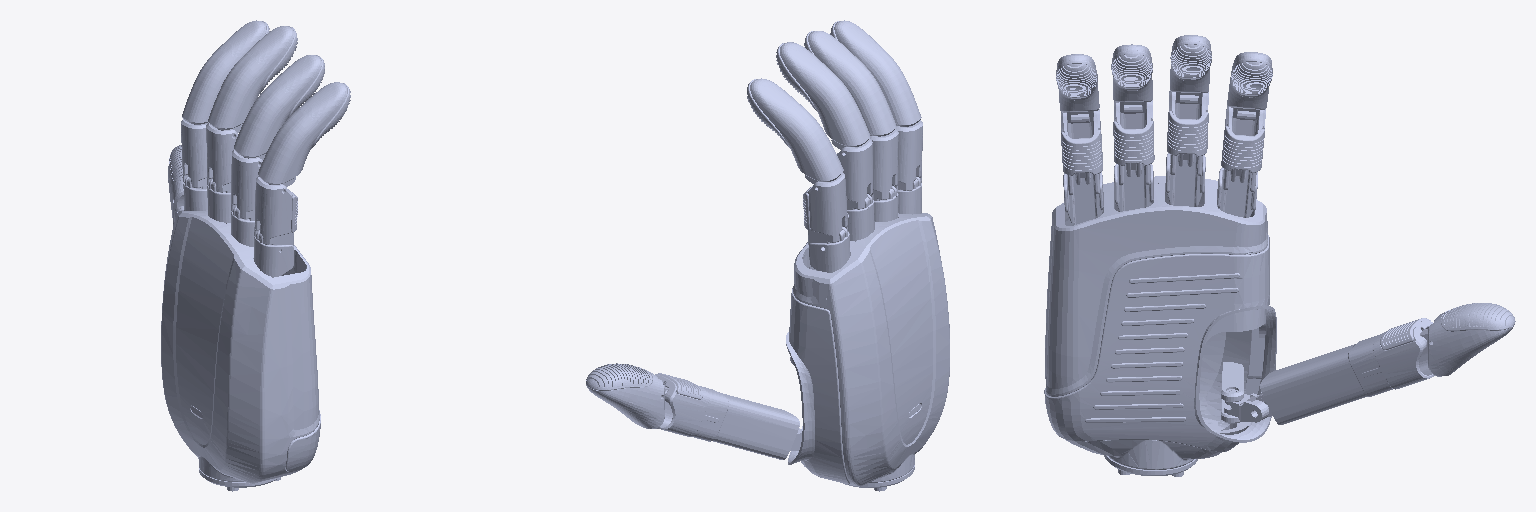
The robot description file, URDF, robot "linkerhand_L6V3.1_right_2.2":
<?xml version="1.0" encoding="utf-8"?>
<robot
  name="linkerhand_L6V3.1_right_2.2">
  <!-- 手掌基座，作为整只手的根链接 -->
  <link
    name="rh_hand_base_link">
    <inertial>
      <origin
        xyz="0.0019900000 0.0009100000 0.0583810000"
        rpy="0 0 0" />
      <mass
        value="0.4185" />
      <inertia
        ixx="0.0004998"
        ixy="-1.2853e-05"
        ixz="-8.317e-06"
        iyy="0.0003567"
        iyz="-1.0354e-05"
        izz="0.0002301" />
    </inertial>
    <visual>
      <origin
        xyz="0 0 0"
        rpy="0 0 0" />
      <geometry>
        <mesh
          filename="meshes/hand_base_link.STL" />
      </geometry>
      <material
        name="">
        <color
          rgba="0.796078431372549 0.823529411764706 0.937254901960784 1" />
      </material>
    </visual>
    <collision>
      <origin
        xyz="0 0 0"
        rpy="0 0 0" />
      <geometry>
        <mesh
          filename="meshes/hand_base_link.STL" />
      </geometry>
    </collision>
  </link>
  <link
    name="rh_thumb_metacarpals_base1">
    <inertial>
      <origin
        xyz="0.0018663000 0.0066406000 0.0015330000"
        rpy="0 0 0" />
      <mass
        value="0.01" />
      <inertia
        ixx="3.3724e-07"
        ixy="-1.11e-07"
        ixz="-3.6039e-08"
        iyy="2.9457e-07"
        iyz="-5.7181e-08"
        izz="4.903e-07" />
    </inertial>
    <visual>
      <origin
        xyz="0 0 0"
        rpy="0 0 0" />
      <geometry>
        <mesh
          filename="meshes/thumb_metacarpals_base1.STL" />
      </geometry>
      <material
        name="">
        <color
          rgba="0.796078431372549 0.823529411764706 0.937254901960784 1" />
      </material>
    </visual>
    <collision>
      <origin
        xyz="0 0 0"
        rpy="0 0 0" />
      <geometry>
        <mesh
          filename="meshes/thumb_metacarpals_base1.STL" />
      </geometry>
    </collision>
  </link>
  <joint
    name="rh_thumb_cmc_roll"
    type="revolute">
    <origin
      xyz="0.0078133 0.030812 0.025678"
      rpy="-0.034907 0 0" />
    <parent
      link="rh_hand_base_link" />
    <child
      link="rh_thumb_metacarpals_base1" />
    <axis
      xyz="0 0.034899 -0.99939" />
    <limit
      lower="-0.087266"
      upper="1.256637"
      effort="0.588"
      velocity="5.95" />
    <dynamics damping="0.02" friction="0.05416667"/>
  </joint>
  <link
    name="rh_thumb_metacarpals">
    <inertial>
      <origin
        xyz="0.0076927091 -0.0859662185 0.0235283087"
        rpy="0 0 0" />
      <mass
        value="0.065" />
      <inertia
        ixx="8.407e-06"
        ixy="1.1338e-09"
        ixz="1.1136e-08"
        iyy="8.3899e-06"
        iyz="-3.1171e-07"
        izz="2.0091e-06" />
    </inertial>
    <visual>
      <origin
        xyz="0 0 0"
        rpy="0 0 0" />
      <geometry>
        <mesh
          filename="meshes/thumb_metacarpals.STL" />
      </geometry>
      <material
        name="">
        <color
          rgba="0.796078431372549 0.823529411764706 0.937254901960784 1" />
      </material>
    </visual>
    <collision>
      <origin
        xyz="0 0 0"
        rpy="0 0 0" />
      <geometry>
        <mesh
          filename="meshes/thumb_metacarpals.STL" />
      </geometry>
    </collision>
  </link>
  <joint
    name="rh_thumb_cmc_pitch"
    type="revolute">
    <origin
      xyz="0.0054997 0.013314 0.0032166"
      rpy="-1.0762 0.013637 -0.40121" />
    <parent
      link="rh_thumb_metacarpals_base1" />
    <child
      link="rh_thumb_metacarpals" />
    <axis
      xyz="1 0 0" />
    <limit
      lower="0"
      upper="0.837758"
      effort="1.008"
      velocity="3.47" />
    <dynamics damping="0.02" friction="0.0375"/>
  </joint>
  <link
    name="rh_thumb_distal">
    <inertial>
      <origin
        xyz="0.0076927091 -0.0798662185 -0.0591716913"
        rpy="0 0 0" />
      <mass
        value="0.018" />
      <inertia
        ixx="1.5546e-06"
        ixy="-2.4423e-09"
        ixz="2.8147e-09"
        iyy="1.7108e-06"
        iyz="7.2756e-08"
        izz="9.1709e-07" />
    </inertial>
    <visual>
      <origin
        xyz="0 0 0"
        rpy="0 0 0" />
      <geometry>
        <mesh
          filename="meshes/thumb_distal.STL" />
      </geometry>
      <material
        name="">
        <color
          rgba="0.796078431372549 0.823529411764706 0.937254901960784 1" />
      </material>
    </visual>
    <collision>
      <origin
        xyz="0 0 0"
        rpy="0 0 0" />
      <geometry>
        <mesh
          filename="meshes/thumb_distal.STL" />
      </geometry>
    </collision>
  </link>
  <link
    name="rh_thumb_tip">
    <inertial>
      <origin
        xyz="0 0 0"
        rpy="0 0 0" />
      <mass
        value="1e-06" />
      <inertia
        ixx="1e-09"
        ixy="0"
        ixz="0"
        iyy="1e-09"
        iyz="0"
        izz="1e-09" />
    </inertial>
  </link>
  <joint
    name="rh_thumb_tip_fixed"
    type="fixed">
    <origin
      xyz="0 -0.0035 0.026"
      rpy="0 0 -1.5708" />
    <parent
      link="rh_thumb_distal" />
    <child
      link="rh_thumb_tip" />
  </joint>
  <joint
    name="rh_thumb_dip"
    type="revolute">
    <origin
      xyz="0 -0.0061 0.0827"
      rpy="0 0 0" />
    <parent
      link="rh_thumb_metacarpals" />
    <child
      link="rh_thumb_distal" />
    <axis
      xyz="1 0 0" />
    <limit
      lower="0"
      upper="0.963287"
      effort="0"
      velocity="1.7" />
    <mimic
      joint="rh_thumb_cmc_pitch"
      multiplier="1.226495"
      offset="0" />
  </joint>
  <link
    name="rh_index_proximal">
    <inertial>
      <origin
        xyz="0.0017760000 0.0001100000 0.0125560000"
        rpy="0 0 0" />
      <mass
        value="0.008553" />
      <inertia
        ixx="7.97543e-07"
        ixy="1.275e-09"
        ixz="1.38601e-07"
        iyy="8.00499e-07"
        iyz="-9.39e-10"
        izz="3.57001e-07" />
    </inertial>
    <visual>
      <origin
        xyz="0 0 0"
        rpy="0 0 0" />
      <geometry>
        <mesh
          filename="meshes/index_proximal.STL" />
      </geometry>
      <material
        name="">
        
        <color
          rgba="0.796078431372549 0.823529411764706 0.937254901960784 1" />
      </material>
    </visual>
    <collision>
      <origin
        xyz="0 0 0"
        rpy="0 0 0" />
      <geometry>
        <mesh
          filename="meshes/index_proximal.STL" />
      </geometry>
    </collision>
  </link>
  <joint
    name="rh_index_mcp_pitch"
    type="revolute">
    <origin
      xyz="-0.00066821 0.033467 0.11622"
      rpy="-0.087266 0 0" />
    <parent
      link="rh_hand_base_link" />
    <child
      link="rh_index_proximal" />
    <axis
      xyz="0 1 0" />
    <limit
      lower="0"
      upper="1.134464"
      effort="0.574"
      velocity="6.10" />
    <dynamics damping="0.01" friction="0.04"/>
  </joint>
  <link
    name="rh_index_distal">
    <inertial>
      <origin
        xyz="0.0134000000 -0.0022620000 0.0169920000"
        rpy="0 0 0" />
      <mass
        value="0.018408" />
      <inertia
        ixx="2.488712e-06"
        ixy="-8.249e-09"
        ixz="-1.523059e-06"
        iyy="3.723754e-06"
        iyz="-1.4019e-08"
        izz="1.813582e-06" />
    </inertial>
    <visual>
      <origin
        xyz="0 0 0"
        rpy="0 0 0" />
      <geometry>
        <mesh
          filename="meshes/index_distal.STL" />
      </geometry>
      <material
        name="">
        <color
          rgba="0.796078431372549 0.823529411764706 0.937254901960784 1" />
      </material>
    </visual>
    <collision>
      <origin
        xyz="0 0 0"
        rpy="0 0 0" />
      <geometry>
        <mesh
          filename="meshes/index_distal.STL" />
      </geometry>
    </collision>
  </link>
  <link
    name="rh_index_tip">
    <inertial>
      <origin
        xyz="0 0 0"
        rpy="0 0 0" />
      <mass
        value="1e-06" />
      <inertia
        ixx="1e-09"
        ixy="0"
        ixz="0"
        iyy="1e-09"
        iyz="0"
        izz="1e-09" />
    </inertial>
  </link>
  <joint
    name="rh_index_tip_fixed"
    type="fixed">
    <origin
      xyz="0.0341 0 0.034"
      rpy="0 0 0" />
    <parent
      link="rh_index_distal" />
    <child
      link="rh_index_tip" />
  </joint>
  <joint
    name="rh_index_dip"
    type="revolute">
    <origin
      xyz="0.0009359 0 0.028002"
      rpy="0 0 0" />
    <parent
      link="rh_index_proximal" />
    <child
      link="rh_index_distal" />
    <axis
      xyz="0 1 0" />
    <limit
      lower="0"
      upper="1.277039"
      effort="0"
      velocity="3.1" />
    <mimic
      joint="rh_index_mcp_pitch"
      multiplier="1.125676"
      offset="0" />
  </joint>
  <link
    name="rh_middle_proximal">
    <inertial>
      <origin
        xyz="0.0017760000 0.0001100000 0.0125560000"
        rpy="0 0 0" />
      <mass
        value="0.008553" />
      <inertia
        ixx="7.97543e-07"
        ixy="1.275e-09"
        ixz="1.38601e-07"
        iyy="8.00499e-07"
        iyz="-9.39e-10"
        izz="3.57001e-07" />
    </inertial>
    <visual>
      <origin
        xyz="0 0 0"
        rpy="0 0 0" />
      <geometry>
        <mesh
          filename="meshes/middle_proximal.STL" />
      </geometry>
      <material
        name="">
        <color
          rgba="0.796078431372549 0.823529411764706 0.937254901960784 1" />
      </material>
    </visual>
    <collision>
      <origin
        xyz="0 0 0"
        rpy="0 0 0" />
      <geometry>
        <mesh
          filename="meshes/middle_proximal.STL" />
      </geometry>
    </collision>
  </link>
  <joint
    name="rh_middle_mcp_pitch"
    type="revolute">
    <origin
      xyz="-0.00066821 0.0134013 0.12272"
      rpy="-0.034907 0 0" />
    <parent
      link="rh_hand_base_link" />
    <child
      link="rh_middle_proximal" />
    <axis
      xyz="0 1 0" />
    <limit
      lower="0"
      upper="1.134464"
      effort="0.574"
      velocity="6.10" />
    <dynamics damping="0.01" friction="0.02708333"/>
  </joint>
  <link
    name="rh_middle_distal">
    <inertial>
      <origin
        xyz="0.0134000000 -0.0022620000 0.0169920000"
        rpy="0 0 0" />
      <mass
        value="0.018408" />
      <inertia
        ixx="2.488712e-06"
        ixy="-8.249e-09"
        ixz="-1.523059e-06"
        iyy="3.723754e-06"
        iyz="-1.4019e-08"
        izz="1.813582e-06" />
    </inertial>
    <visual>
      <origin
        xyz="0 0 0"
        rpy="0 0 0" />
      <geometry>
        <mesh
          filename="meshes/middle_distal.STL" />
      </geometry>
      <material
        name="">
        <color
          rgba="0.796078431372549 0.823529411764706 0.937254901960784 1" />
      </material>
    </visual>
    <collision>
      <origin
        xyz="0 0 0"
        rpy="0 0 0" />
      <geometry>
        <mesh
          filename="meshes/middle_distal.STL" />
      </geometry>
    </collision>
  </link>
  <link
    name="rh_middle_tip">
    <inertial>
      <origin
        xyz="0 0 0"
        rpy="0 0 0" />
      <mass
        value="1e-06" />
      <inertia
        ixx="1e-09"
        ixy="0"
        ixz="0"
        iyy="1e-09"
        iyz="0"
        izz="1e-09" />
    </inertial>
  </link>
  <joint
    name="rh_middle_tip_fixed"
    type="fixed">
    <origin
      xyz="0.0341 0 0.034"
      rpy="0 0 0" />
    <parent
      link="rh_middle_distal" />
    <child
      link="rh_middle_tip" />
  </joint>
  <joint
    name="rh_middle_dip"
    type="revolute">
    <origin
      xyz="0.0009359 0 0.028002"
      rpy="0 0 0" />
    <parent
      link="rh_middle_proximal" />
    <child
      link="rh_middle_distal" />
    <axis
      xyz="0 1 0" />
    <limit
      lower="0"
      upper="1.277039"
      effort="0"
      velocity="3.1" />
    <mimic
      joint="rh_middle_mcp_pitch"
      multiplier="1.125676"
      offset="0" />
  </joint>
  <link
    name="rh_ring_proximal">
    <inertial>
      <origin
        xyz="0.0017760000 0.0001100000 0.0125560000"
        rpy="0 0 0" />
      <mass
        value="0.008553" />
      <inertia
        ixx="7.97543e-07"
        ixy="1.275e-09"
        ixz="1.38601e-07"
        iyy="8.00499e-07"
        iyz="-9.39e-10"
        izz="3.57001e-07" />
    </inertial>
    <visual>
      <origin
        xyz="0 0 0"
        rpy="0 0 0" />
      <geometry>
        <mesh
          filename="meshes/ring_proximal.STL" />
      </geometry>
      <material
        name="">
        <color
          rgba="0.796078431372549 0.823529411764706 0.937254901960784 1" />
      </material>
    </visual>
    <collision>
      <origin
        xyz="0 0 0"
        rpy="0 0 0" />
      <geometry>
        <mesh
          filename="meshes/ring_proximal.STL" />
      </geometry>
    </collision>
  </link>
  <joint
    name="rh_ring_mcp_pitch"
    type="revolute">
    <origin
      xyz="-0.00067368 -0.006217 0.11872"
      rpy="0.017453 0 0" />
    <parent
      link="rh_hand_base_link" />
    <child
      link="rh_ring_proximal" />
    <axis
      xyz="0 1 0" />
    <limit
      lower="0"
      upper="1.134464"
      effort="0.574"
      velocity="6.10" />
    <dynamics damping="0.01" friction="0.02291667"/>
  </joint>
  <link
    name="rh_ring_distal">
    <inertial>
      <origin
        xyz="0.0134000000 -0.0022620000 0.0169920000"
        rpy="0 0 0" />
      <mass
        value="0.018408" />
      <inertia
        ixx="2.488712e-06"
        ixy="-8.249e-09"
        ixz="-1.523059e-06"
        iyy="3.723754e-06"
        iyz="-1.4019e-08"
        izz="1.813582e-06" />
    </inertial>
    <visual>
      <origin
        xyz="0 0 0"
        rpy="0 0 0" />
      <geometry>
        <mesh
          filename="meshes/ring_distal.STL" />
      </geometry>
      <material
        name="">
        <color
          rgba="0.796078431372549 0.823529411764706 0.937254901960784 1" />
      </material>
    </visual>
    <collision>
      <origin
        xyz="0 0 0"
        rpy="0 0 0" />
      <geometry>
        <mesh
          filename="meshes/ring_distal.STL" />
      </geometry>
    </collision>
  </link>
  <link
    name="rh_ring_tip">
    <inertial>
      <origin
        xyz="0 0 0"
        rpy="0 0 0" />
      <mass
        value="1e-06" />
      <inertia
        ixx="1e-09"
        ixy="0"
        ixz="0"
        iyy="1e-09"
        iyz="0"
        izz="1e-09" />
    </inertial>
  </link>
  <joint
    name="rh_ring_tip_fixed"
    type="fixed">
    <origin
      xyz="0.0341 0 0.034"
      rpy="0 0 0" />
    <parent
      link="rh_ring_distal" />
    <child
      link="rh_ring_tip" />
  </joint>
  <joint
    name="rh_ring_dip"
    type="revolute">
    <origin
      xyz="0.0009359 0 0.028002"
      rpy="0 0 0" />
    <parent
      link="rh_ring_proximal" />
    <child
      link="rh_ring_distal" />
    <axis
      xyz="0 1 0" />
    <limit
      lower="0"
      upper="1.277039"
      effort="0"
      velocity="3.1" />
    <mimic
      joint="rh_ring_mcp_pitch"
      multiplier="1.125676"
      offset="0" />
  </joint>
  <link
    name="rh_pinky_proximal">
    <inertial>
      <origin
        xyz="0.0017760000 0.0001100000 0.0125560000"
        rpy="0 0 0" />
      <mass
        value="0.008553" />
      <inertia
        ixx="7.97543e-07"
        ixy="1.275e-09"
        ixz="1.38601e-07"
        iyy="8.00499e-07"
        iyz="-9.39e-10"
        izz="3.57001e-07" />
    </inertial>
    <visual>
      <origin
        xyz="0 0 0"
        rpy="0 0 0" />
      <geometry>
        <mesh
          filename="meshes/pinky_proximal.STL" />
      </geometry>
      <material
        name="">
        <color
          rgba="0.796078431372549 0.823529411764706 0.937254901960784 1" />
      </material>
    </visual>
    <collision>
      <origin
        xyz="0 0 0"
        rpy="0 0 0" />
      <geometry>
        <mesh
          filename="meshes/pinky_proximal.STL" />
      </geometry>
    </collision>
  </link>
  <joint
    name="rh_pinky_mcp_pitch"
    type="revolute">
    <origin
      xyz="-0.00067852 -0.025314 0.11474"
      rpy="0.05236 0 0" />
    <parent
      link="rh_hand_base_link" />
    <child
      link="rh_pinky_proximal" />
    <axis
      xyz="0 1 0" />
    <limit
      lower="0"
      upper="1.134464"
      effort="0.574"
      velocity="6.10" />
    <dynamics damping="0.01" friction="0.01"/>
  </joint>
  <link
    name="rh_pinky_distal">
    <inertial>
      <origin
        xyz="0.0134000000 -0.0022620000 0.0169920000"
        rpy="0 0 0" />
      <mass
        value="0.018408" />
      <inertia
        ixx="2.488712e-06"
        ixy="-8.249e-09"
        ixz="-1.523059e-06"
        iyy="3.723754e-06"
        iyz="-1.4019e-08"
        izz="1.813582e-06" />
    </inertial>
    <visual>
      <origin
        xyz="0 0 0"
        rpy="0 0 0" />
      <geometry>
        <mesh
          filename="meshes/pinky_distal.STL" />
      </geometry>
      <material
        name="">
        <color
          rgba="0.796078431372549 0.823529411764706 0.937254901960784 1" />
      </material>
    </visual>
    <collision>
      <origin
        xyz="0 0 0"
        rpy="0 0 0" />
      <geometry>
        <mesh
          filename="meshes/pinky_distal.STL" />
      </geometry>
    </collision>
  </link>
  <link
    name="rh_pinky_tip">
    <inertial>
      <origin
        xyz="0 0 0"
        rpy="0 0 0" />
      <mass
        value="1e-06" />
      <inertia
        ixx="1e-09"
        ixy="0"
        ixz="0"
        iyy="1e-09"
        iyz="0"
        izz="1e-09" />
    </inertial>
  </link>
  <joint
    name="rh_pinky_tip_fixed"
    type="fixed">
    <origin
      xyz="0.0341 0 0.034"
      rpy="0 0 0" />
    <parent
      link="rh_pinky_distal" />
    <child
      link="rh_pinky_tip" />
  </joint>
  <joint
    name="rh_pinky_dip"
    type="revolute">
    <origin
      xyz="0.0009359 0 0.028002"
      rpy="0 0 0" />
    <parent
      link="rh_pinky_proximal" />
    <child
      link="rh_pinky_distal" />
    <axis
      xyz="0 1 0" />
    <limit
      lower="0"
      upper="1.277039"
      effort="0"
      velocity="3.1" />
    <mimic
      joint="rh_pinky_mcp_pitch"
      multiplier="1.125676"
      offset="0" />
  </joint>
  <transmission name="trans_thumb_cmc_roll">
    <type>transmission_interface/SimpleTransmission</type>
    <joint name="rh_thumb_cmc_roll">
      <hardwareInterface>hardware_interface/EffortJointInterface</hardwareInterface>
    </joint>
    <actuator name="motor_thumb_cmc_roll">
      <hardwareInterface>hardware_interface/EffortJointInterface</hardwareInterface>
      <mechanicalReduction>0.0084</mechanicalReduction>
    </actuator>
  </transmission>
  <transmission name="trans_index_mcp_pitch">
    <type>transmission_interface/SimpleTransmission</type>
    <joint name="rh_index_mcp_pitch">
      <hardwareInterface>hardware_interface/EffortJointInterface</hardwareInterface>
    </joint>
    <actuator name="motor_index_mcp_pitch">
      <hardwareInterface>hardware_interface/EffortJointInterface</hardwareInterface>
      <mechanicalReduction>0.0082</mechanicalReduction>
    </actuator>
  </transmission>
  <transmission name="trans_middle_mcp_pitch">
    <type>transmission_interface/SimpleTransmission</type>
    <joint name="rh_middle_mcp_pitch">
      <hardwareInterface>hardware_interface/EffortJointInterface</hardwareInterface>
    </joint>
    <actuator name="motor_middle_mcp_pitch">
      <hardwareInterface>hardware_interface/EffortJointInterface</hardwareInterface>
      <mechanicalReduction>0.0082</mechanicalReduction>
    </actuator>
  </transmission>
  <transmission name="trans_ring_mcp_pitch">
    <type>transmission_interface/SimpleTransmission</type>
    <joint name="rh_ring_mcp_pitch">
      <hardwareInterface>hardware_interface/EffortJointInterface</hardwareInterface>
    </joint>
    <actuator name="motor_ring_mcp_pitch">
      <hardwareInterface>hardware_interface/EffortJointInterface</hardwareInterface>
      <mechanicalReduction>0.0082</mechanicalReduction>
    </actuator>
  </transmission>
  <transmission name="trans_pinky_mcp_pitch">
    <type>transmission_interface/SimpleTransmission</type>
    <joint name="rh_pinky_mcp_pitch">
      <hardwareInterface>hardware_interface/EffortJointInterface</hardwareInterface>
    </joint>
    <actuator name="motor_pinky_mcp_pitch">
      <hardwareInterface>hardware_interface/EffortJointInterface</hardwareInterface>
      <mechanicalReduction>0.0082</mechanicalReduction>
    </actuator>
  </transmission>
  <transmission name="trans_thumb_cmc_pitch">
    <type>transmission_interface/SimpleTransmission</type>
    <joint name="rh_thumb_cmc_pitch">
      <hardwareInterface>hardware_interface/EffortJointInterface</hardwareInterface>
    </joint>
    <actuator name="motor_thumb_cmc_pitch">
      <hardwareInterface>hardware_interface/EffortJointInterface</hardwareInterface>
      <mechanicalReduction>0.0144</mechanicalReduction>
    </actuator>
  </transmission>
  <mujoco>
    <compiler meshdir="meshes/" balanceinertia="true" discardvisual="false"/>
    <default>
      <joint armature="3.4707e-08" damping="5.0" frictionloss="0.5"/>
    </default>
    <equality>
      <joint name="rh_couple_index" joint1="rh_index_dip" joint2="rh_index_mcp_pitch" polycoef="0 1.125676 0 0 0 0"/>
      <joint name="rh_couple_middle" joint1="rh_middle_dip" joint2="rh_middle_mcp_pitch" polycoef="0 1.125676 0 0 0 0"/>
      <joint name="rh_couple_ring" joint1="rh_ring_dip" joint2="rh_ring_mcp_pitch" polycoef="0 1.125676 0 0 0 0"/>
      <joint name="rh_couple_pinky" joint1="rh_pinky_dip" joint2="rh_pinky_mcp_pitch" polycoef="0 1.125676 0 0 0 0"/>
      <joint name="rh_couple_thumb" joint1="rh_thumb_dip" joint2="rh_thumb_cmc_pitch" polycoef="0 1.226495 0 0 0 0"/>
    </equality>
  </mujoco>
  <gazebo reference="rh_hand_base_link">
    <mu1>1.5</mu1>
    <mu2>1.5</mu2>
    <selfCollide>true</selfCollide>
  </gazebo>
  <gazebo reference="rh_thumb_distal">
    <mu1>1.5</mu1>
    <mu2>1.5</mu2>
    <selfCollide>true</selfCollide>
  </gazebo>
  <gazebo reference="rh_index_distal">
    <mu1>1.1</mu1>
    <mu2>1.1</mu2>
    <selfCollide>true</selfCollide>
  </gazebo>
  <gazebo reference="rh_middle_distal">
    <mu1>1.1</mu1>
    <mu2>1.1</mu2>
    <selfCollide>true</selfCollide>
  </gazebo>
  <gazebo reference="rh_ring_distal">
    <mu1>1.1</mu1>
    <mu2>1.1</mu2>
    <selfCollide>true</selfCollide>
  </gazebo>
  <gazebo reference="rh_pinky_distal">
    <mu1>1.1</mu1>
    <mu2>1.1</mu2>
    <selfCollide>true</selfCollide>
  </gazebo>
</robot>

--- What the picture shows (computed from the rendered views, not written in the file) ---
3 views of the same robot in one strip: view 1: azimuth 30°, elevation 25°; view 2: azimuth 150°, elevation 25°; view 3: azimuth 270°, elevation 25° (orthographic).
Model linkerhand_L6V3.1_right_2.2 with 17 links and 16 joints (11 revolute, 5 fixed), rooted at rh_hand_base_link, posed every joint at zero.
Visible links, largest first — view 1: rh_hand_base_link, rh_pinky_distal, rh_middle_distal, rh_ring_distal, rh_index_distal, rh_pinky_proximal, rh_middle_proximal, rh_ring_proximal, rh_index_proximal, rh_thumb_distal; view 2: rh_hand_base_link, rh_thumb_metacarpals, rh_index_distal, rh_middle_distal, rh_thumb_distal, rh_ring_distal, rh_pinky_distal, rh_index_proximal, rh_middle_proximal, rh_ring_proximal, rh_pinky_proximal; view 3: rh_hand_base_link, rh_thumb_metacarpals, rh_thumb_distal, rh_pinky_distal, rh_ring_distal, rh_middle_distal, rh_index_distal, rh_index_proximal, rh_middle_proximal, rh_pinky_proximal, rh_ring_proximal, rh_thumb_metacarpals_base1.
Boxes of the visible links, x1=… form: rh_hand_base_link: x1=161, y1=176, x2=320, y2=491; rh_pinky_distal: x1=258, y1=82, x2=350, y2=186; rh_middle_distal: x1=208, y1=26, x2=297, y2=132; rh_ring_distal: x1=234, y1=55, x2=324, y2=159; rh_index_distal: x1=182, y1=20, x2=269, y2=124; rh_pinky_proximal: x1=254, y1=176, x2=297, y2=250; rh_middle_proximal: x1=206, y1=123, x2=237, y2=192; rh_ring_proximal: x1=231, y1=150, x2=262, y2=220; rh_index_proximal: x1=181, y1=119, x2=207, y2=188; rh_thumb_distal: x1=168, y1=145, x2=183, y2=225; rh_hand_base_link: x1=786, y1=177, x2=949, y2=491; rh_thumb_metacarpals: x1=655, y1=373, x2=799, y2=459; rh_index_distal: x1=747, y1=78, x2=843, y2=183; rh_middle_distal: x1=776, y1=42, x2=870, y2=149; rh_thumb_distal: x1=586, y1=363, x2=664, y2=428; rh_ring_distal: x1=804, y1=31, x2=896, y2=136; rh_pinky_distal: x1=830, y1=20, x2=921, y2=127; rh_index_proximal: x1=803, y1=173, x2=848, y2=249; rh_middle_proximal: x1=837, y1=139, x2=873, y2=215; rh_ring_proximal: x1=870, y1=129, x2=898, y2=200; rh_pinky_proximal: x1=896, y1=120, x2=922, y2=190; rh_hand_base_link: x1=1044, y1=153, x2=1276, y2=476; rh_thumb_metacarpals: x1=1256, y1=318, x2=1433, y2=424; rh_thumb_distal: x1=1428, y1=303, x2=1515, y2=376; rh_pinky_distal: x1=1056, y1=54, x2=1099, y2=123; rh_ring_distal: x1=1111, y1=44, x2=1152, y2=113; rh_middle_distal: x1=1170, y1=35, x2=1211, y2=104; rh_index_distal: x1=1227, y1=52, x2=1272, y2=120; rh_index_proximal: x1=1221, y1=105, x2=1265, y2=192; rh_middle_proximal: x1=1167, y1=91, x2=1208, y2=175; rh_pinky_proximal: x1=1061, y1=109, x2=1102, y2=195; rh_ring_proximal: x1=1113, y1=100, x2=1154, y2=185; rh_thumb_metacarpals_base1: x1=1224, y1=389, x2=1268, y2=422.
Bounding box of the posed robot: 0.0799 × 0.1787 × 0.1929 m (x, y, z).
12 mesh visuals loaded from 12 distinct referenced files (12 binary STL).
